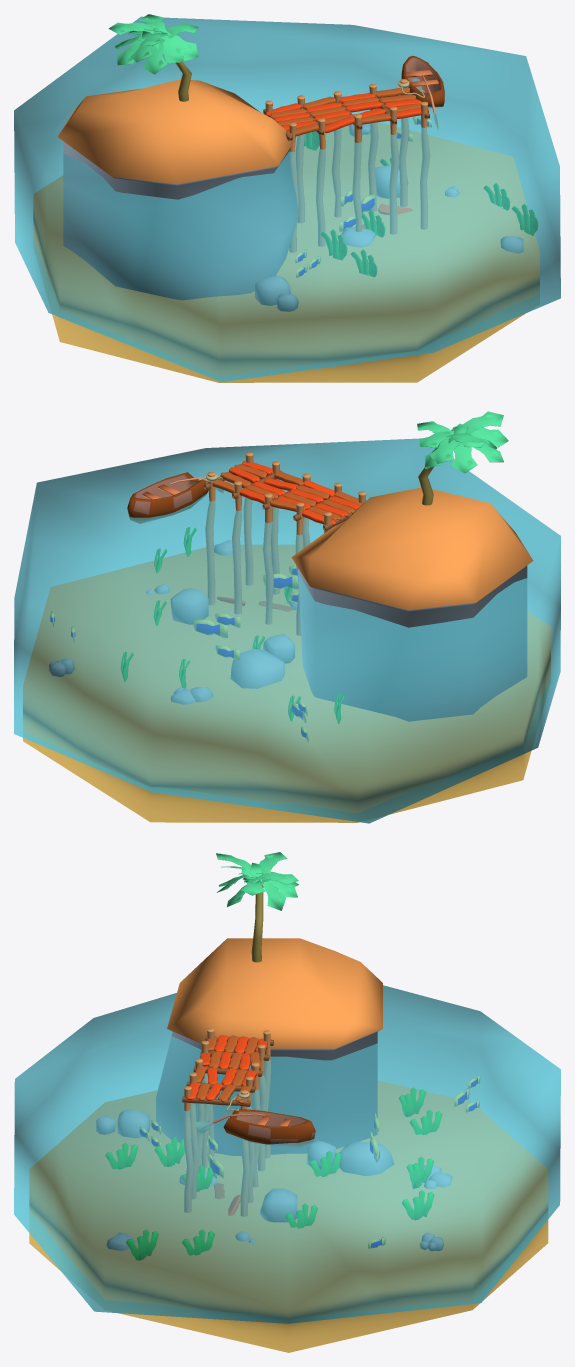
Rendered from island_low_poly.glb.
3 renders of one model, top to bottom at view 1: azimuth 30°, elevation 25°; view 2: azimuth 150°, elevation 25°; view 3: azimuth 270°, elevation 25°, orthographic. The views are drawn at different scales.
Parts seen in each view (by area): view 1: Ocean, Sand, Rock.001, Boat, Wood Poles, Wood Poles.006, Wood Poles.002, Wood Poles.004, Rock.016, Wood Poles.001, Wood Poles.005, Wood Poles.003 (+7 smaller); view 2: Ocean, Sand, Rock.001, Boat, Rock.004, Rock, Wood Poles.003, Wood Poles.005, Wood Poles.001, Wood Poles, Rock.003, Wood Poles.002 (+1 smaller); view 3: Ocean, Sand, Rock.001, Boat, Rock.004, Rock, Wood Poles, Rock.016, Palm Tree, Wood Poles.001, Wood Poles.002.
Boxes of the visible parts, <box> form: Ocean: <box>14,16,560,382</box>; Sand: <box>33,122,539,382</box>; Rock.001: <box>57,79,298,299</box>; Boat: <box>401,55,444,108</box>; Wood Poles: <box>420,101,429,229</box>; Wood Poles.006: <box>316,118,325,246</box>; Wood Poles.002: <box>389,106,399,234</box>; Wood Poles.004: <box>352,114,361,231</box>; Rock.016: <box>255,276,290,305</box>; Wood Poles.001: <box>399,79,408,206</box>; Wood Poles.005: <box>332,91,341,217</box>; Wood Poles.003: <box>368,84,378,211</box>; Ocean: <box>14,438,560,823</box>; Sand: <box>23,545,550,822</box>; Rock.001: <box>291,487,533,721</box>; Boat: <box>127,472,208,523</box>; Rock.004: <box>230,649,284,688</box>; Rock: <box>170,588,208,624</box>; Wood Poles.003: <box>232,481,241,613</box>; Wood Poles.005: <box>263,493,273,624</box>; Wood Poles.001: <box>205,472,215,604</box>; Wood Poles: <box>244,452,253,585</box>; Rock.003: <box>263,634,294,663</box>; Wood Poles.002: <box>271,461,279,594</box>; Ocean: <box>14,985,560,1323</box>; Sand: <box>29,1081,548,1352</box>; Rock.001: <box>156,938,382,1155</box>; Boat: <box>223,1108,315,1146</box>; Rock.004: <box>339,1142,393,1175</box>; Rock: <box>260,1189,296,1221</box>; Wood Poles: <box>184,1086,193,1212</box>; Rock.016: <box>118,1110,149,1137</box>; Palm Tree: <box>251,884,263,962</box>; Wood Poles.001: <box>240,1090,249,1216</box>; Wood Poles.002: <box>189,1072,198,1198</box>.
Bounding box in the file's own units: 1348 × 852 × 1341.
